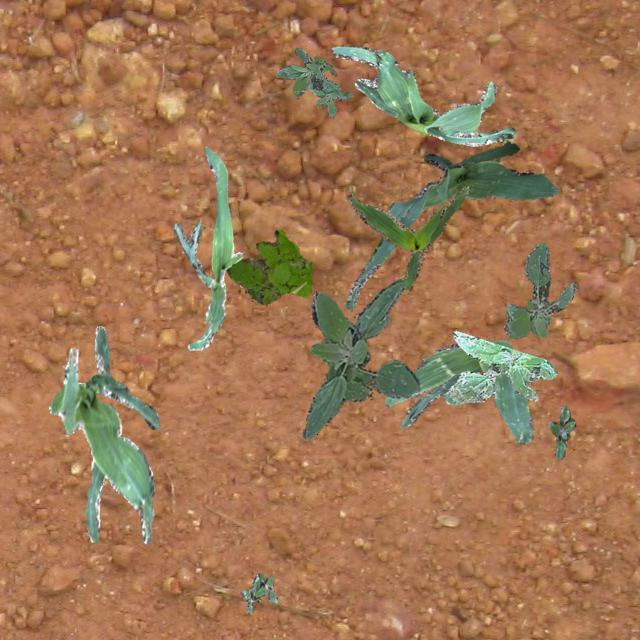crop: (344, 138, 558, 310), (48, 324, 158, 544), (330, 44, 514, 144), (384, 338, 532, 442), (172, 146, 242, 350), (346, 184, 468, 290)
weed: (302, 277, 418, 438), (442, 330, 556, 404), (502, 242, 576, 338), (225, 228, 312, 304), (274, 46, 352, 116), (240, 572, 278, 614), (548, 404, 574, 459)
